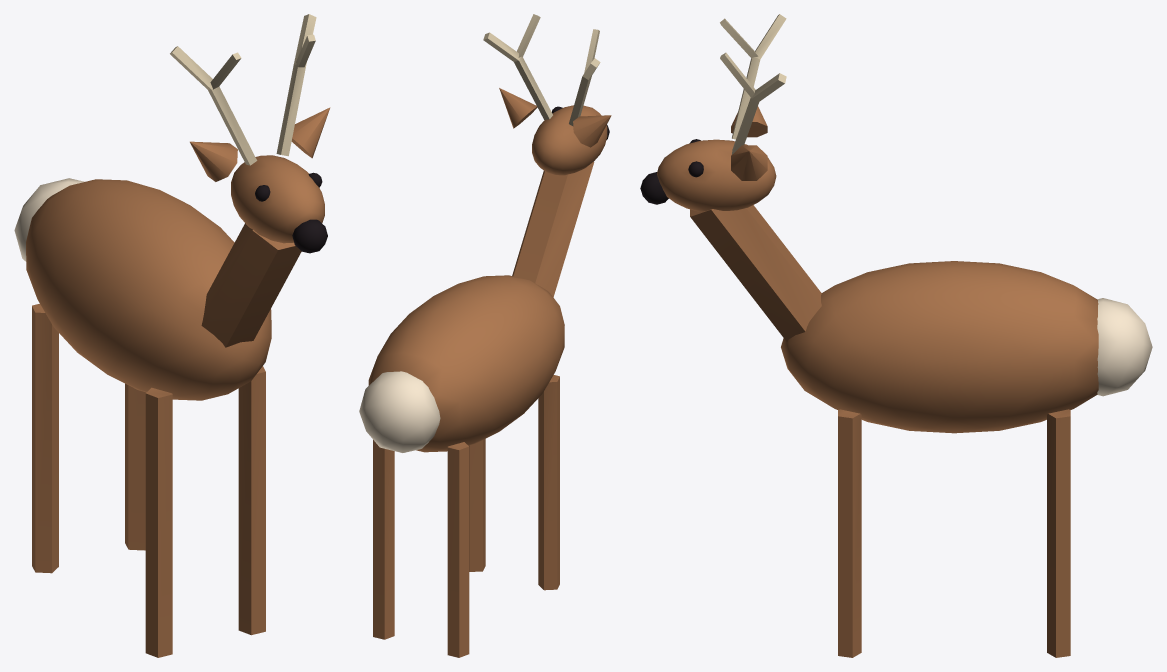
Rendered from deer.glb.
The picture shows the model from 3 angles, left to right: view 1: azimuth 30°, elevation 25°; view 2: azimuth 150°, elevation 25°; view 3: azimuth 270°, elevation 25°; orthographic projection. The views are drawn at different scales.
Visible parts, largest first — view 1: deer, deer.head; view 2: deer, deer.head; view 3: deer, deer.head.
Boxes of the visible parts, box(x1,y1,x2,y2) form: deer: box(14, 178, 271, 657); deer.head: box(170, 14, 330, 347); deer: box(359, 275, 564, 657); deer.head: box(483, 14, 611, 297); deer: box(781, 261, 1152, 657); deer.head: box(640, 14, 821, 341).
Size of the model in its own units: 0.525 by 1.99 by 1.55.
